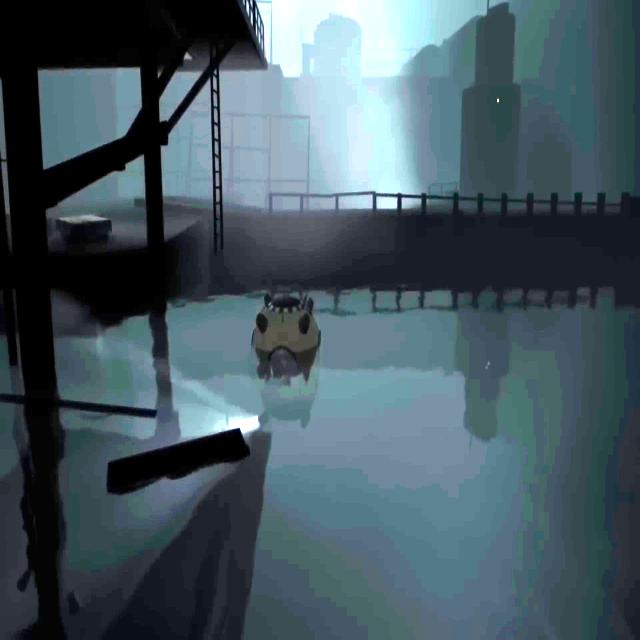structure: (322, 280, 640, 318), (268, 190, 640, 215)
submarine: (252, 292, 322, 428)
